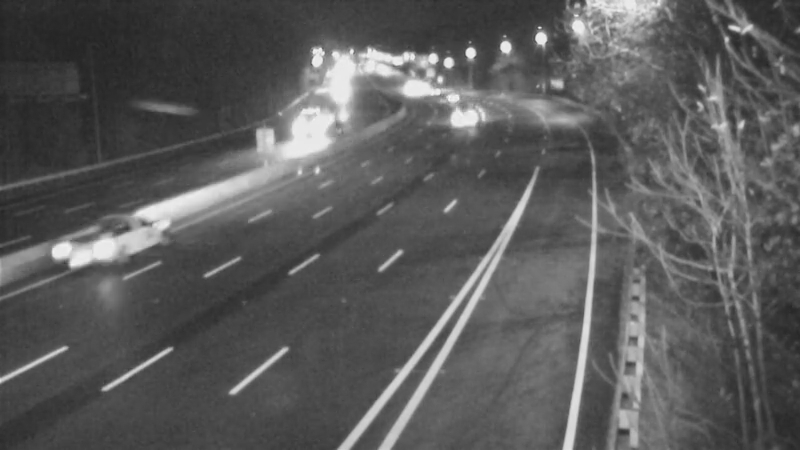vehicle: (70, 205, 150, 285), (410, 66, 460, 116), (424, 68, 474, 118), (437, 91, 487, 141), (286, 105, 336, 155)
